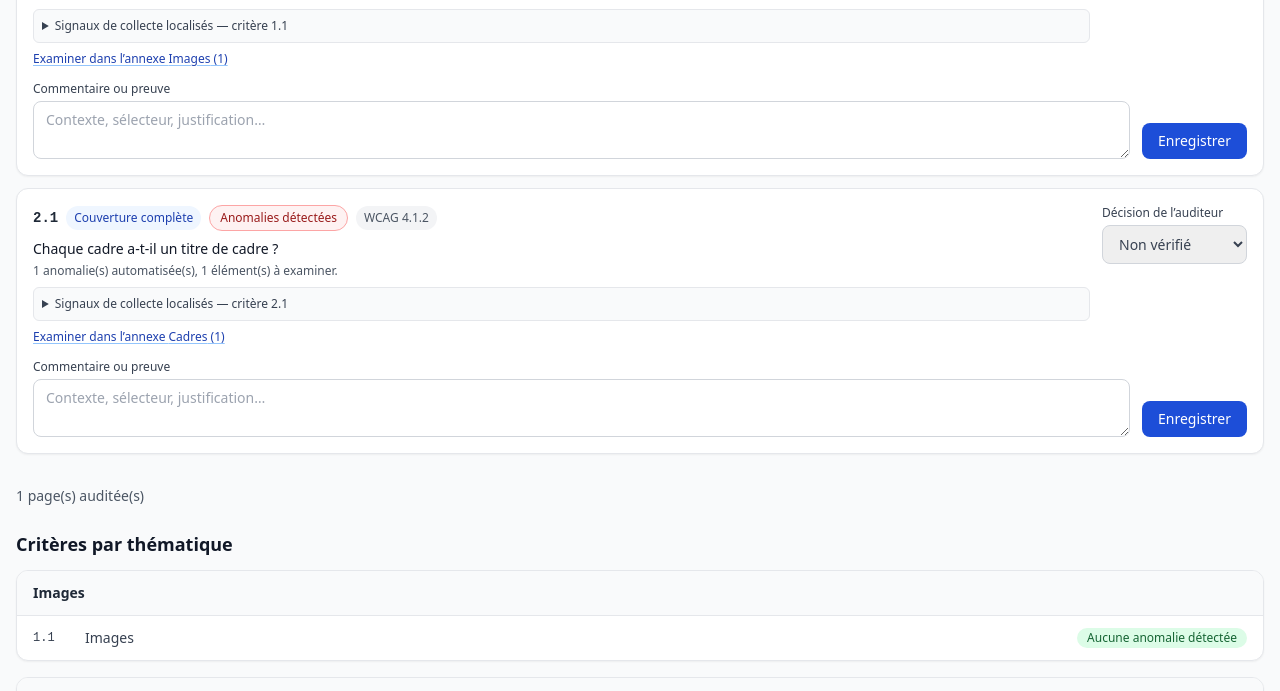
Test case: navigation entre un critère et son annexe › ouvre l’annexe Cadres sur les éléments du critère 2.1
(page scrolled)
Click the button "Examiner dans l’annexe Cadres (1)".
click(129, 337)  # box [33,329,225,345]
(page scrolled)
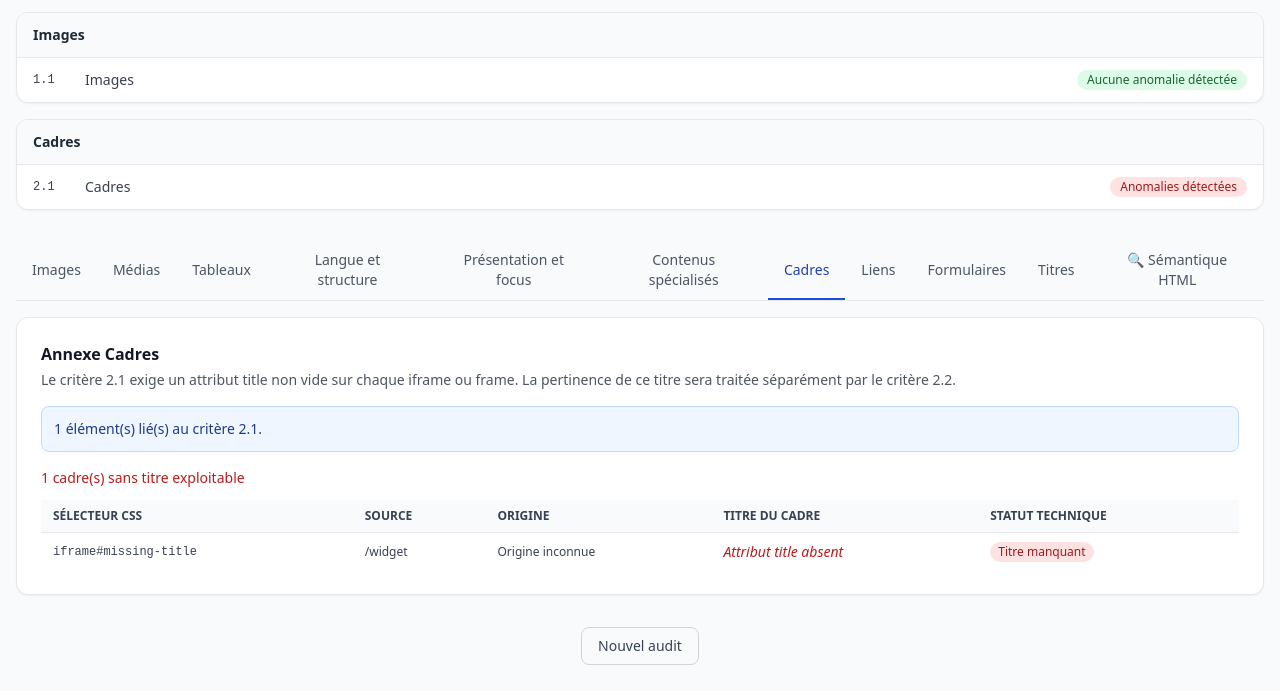
Expected: the text "1 élément(s) lié(s) au critère 2.1." is shown, [41,406,1239,452]
Expected: the text "Attribut title absent" is shown, [723,542,843,560]
